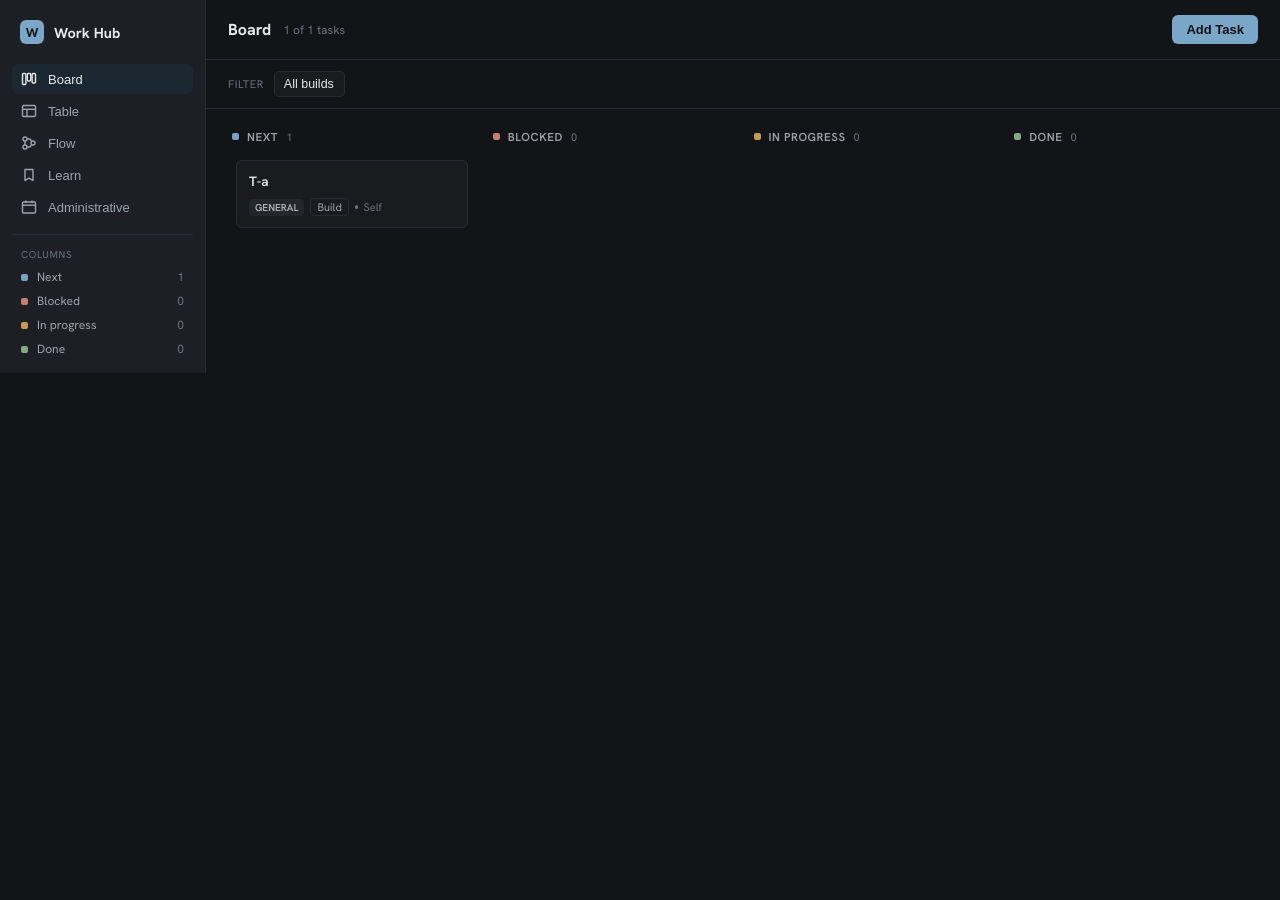
AppClient optimistic move › opens the editor when a card is clicked
The width and height of the screenshot is (1280, 900).
Step 1. Click the text "T-a" → (259, 181), box [249,172,268,190]
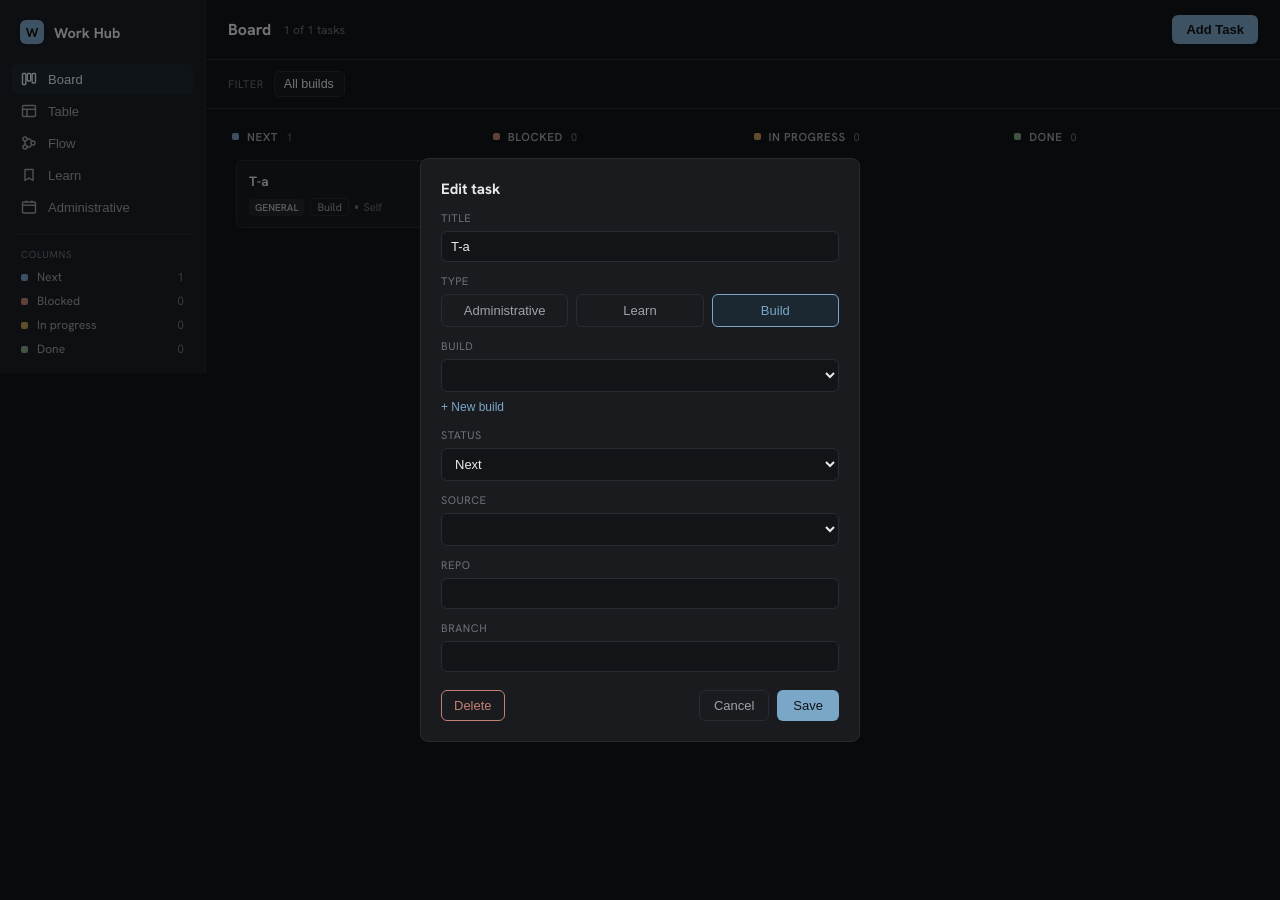
Result: the button "Save" is shown at [777,690,839,721]
